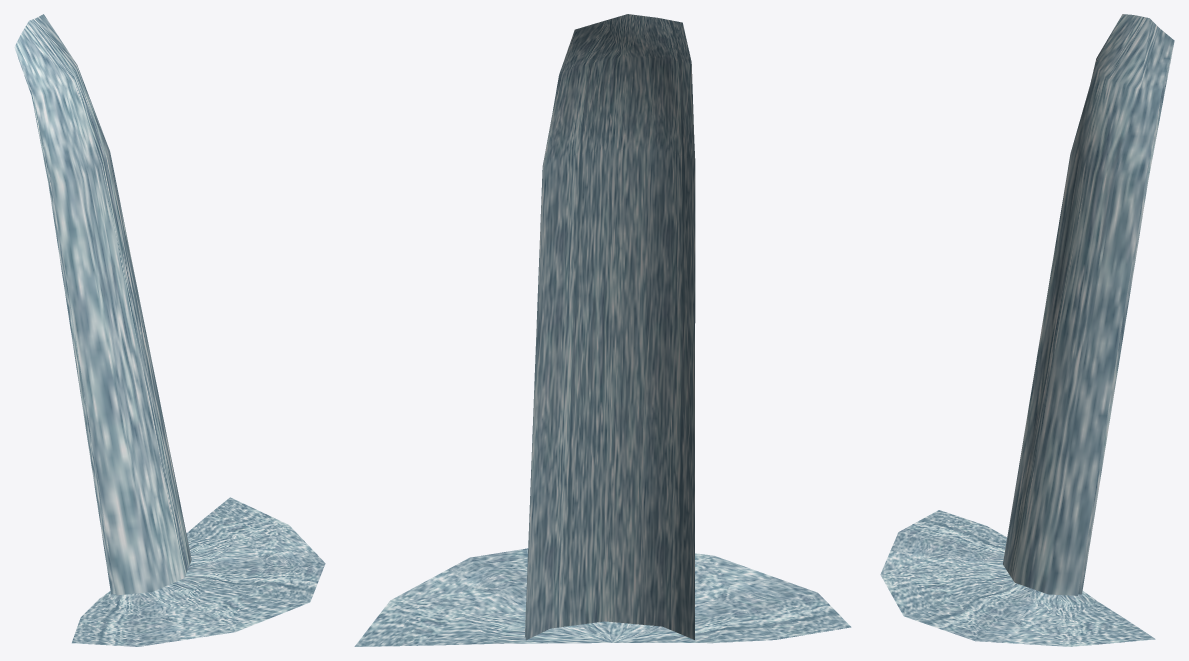
File: Waterfall1.obj
3 views of the same model, side by side, from view 1: azimuth 30°, elevation 25°; view 2: azimuth 150°, elevation 25°; view 3: azimuth 270°, elevation 25° (orthographic). The views are drawn at different scales.
Bounding box in the file's own units: 83.95 × 150 × 76.18.
1 material, 1 textured.
